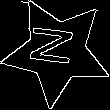N_E: (30, 29, 84, 74)
